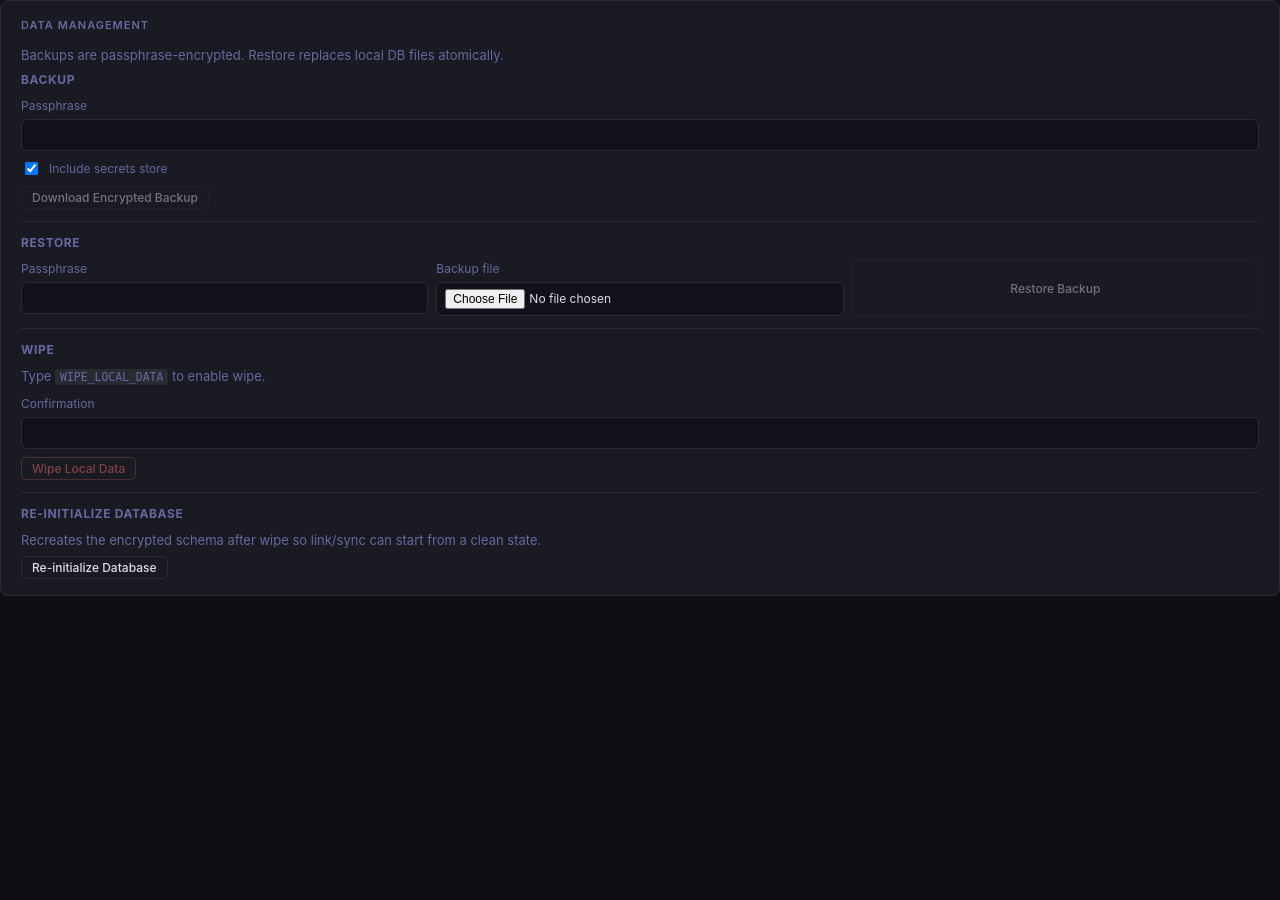
Test: DataManagementPanel › downloads encrypted backup  REQ: ACC-BKP-001
In the password field with test id "backup-passphrase-input": coordinates (640, 135) [21, 119, 1259, 151], type "m5-passphrase"
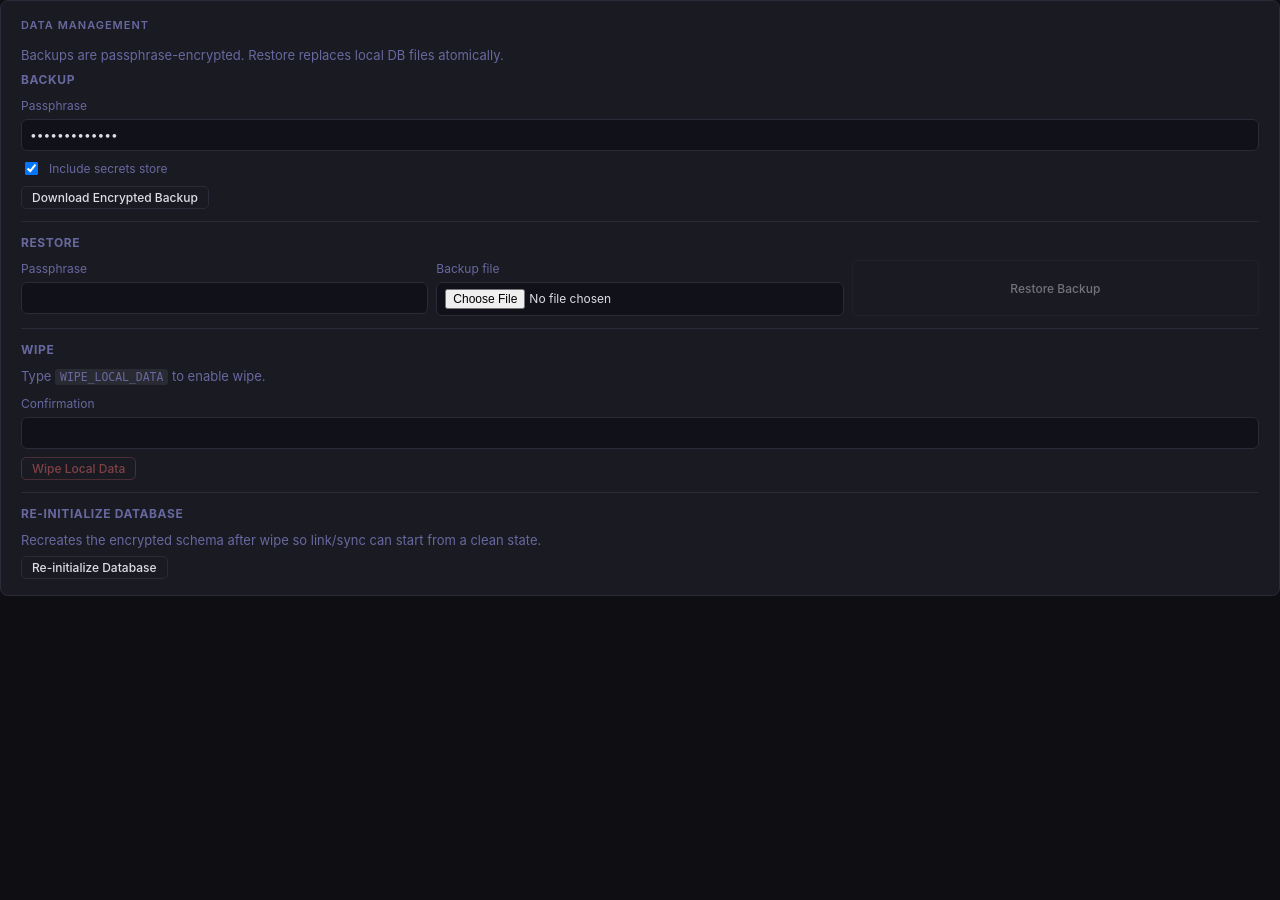
Click the button with test id "backup-download-btn": coordinates (115, 198) [21, 186, 209, 209]
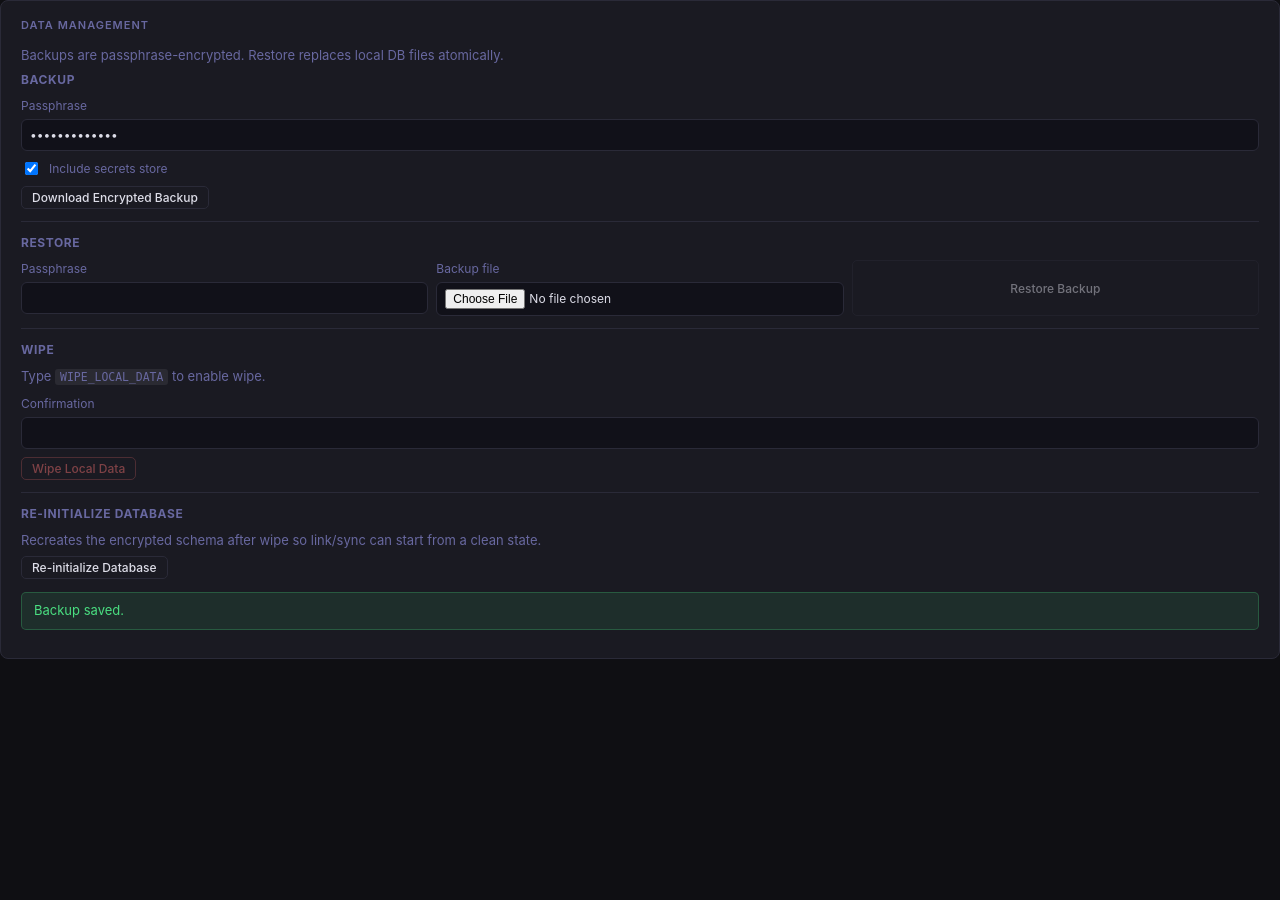
Now the text "Backup saved." is shown, box [21, 592, 1259, 630]
